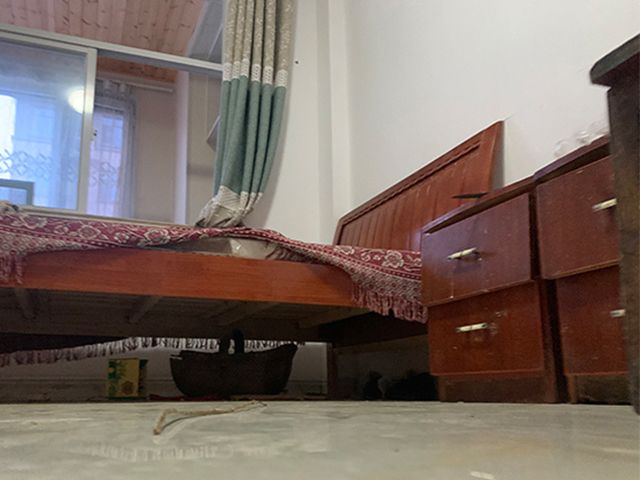bed: (1, 121, 506, 400)
cabinet: (419, 134, 634, 405)
curtain: (193, 1, 289, 223)
